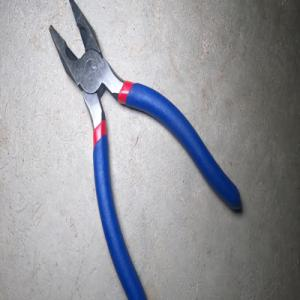Pliers: (48, 0, 242, 300)
